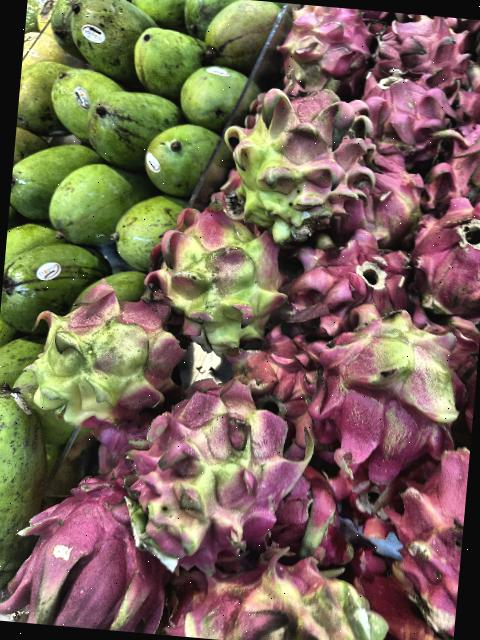buah-naga-belum-matang: (114, 377, 318, 576), (324, 295, 472, 491), (12, 282, 184, 434), (220, 78, 378, 241), (144, 202, 297, 354), (172, 554, 400, 640), (338, 136, 426, 254), (276, 2, 374, 100)
buah-naga-matang: (8, 458, 181, 634), (372, 420, 472, 632), (277, 220, 418, 344), (214, 315, 330, 433), (366, 10, 470, 94), (409, 198, 480, 321), (353, 70, 448, 158), (420, 113, 480, 212)
